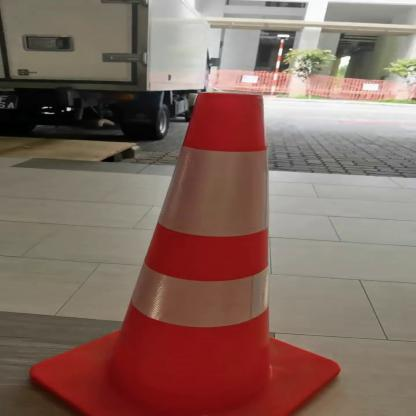cone: (15, 88, 364, 415)
